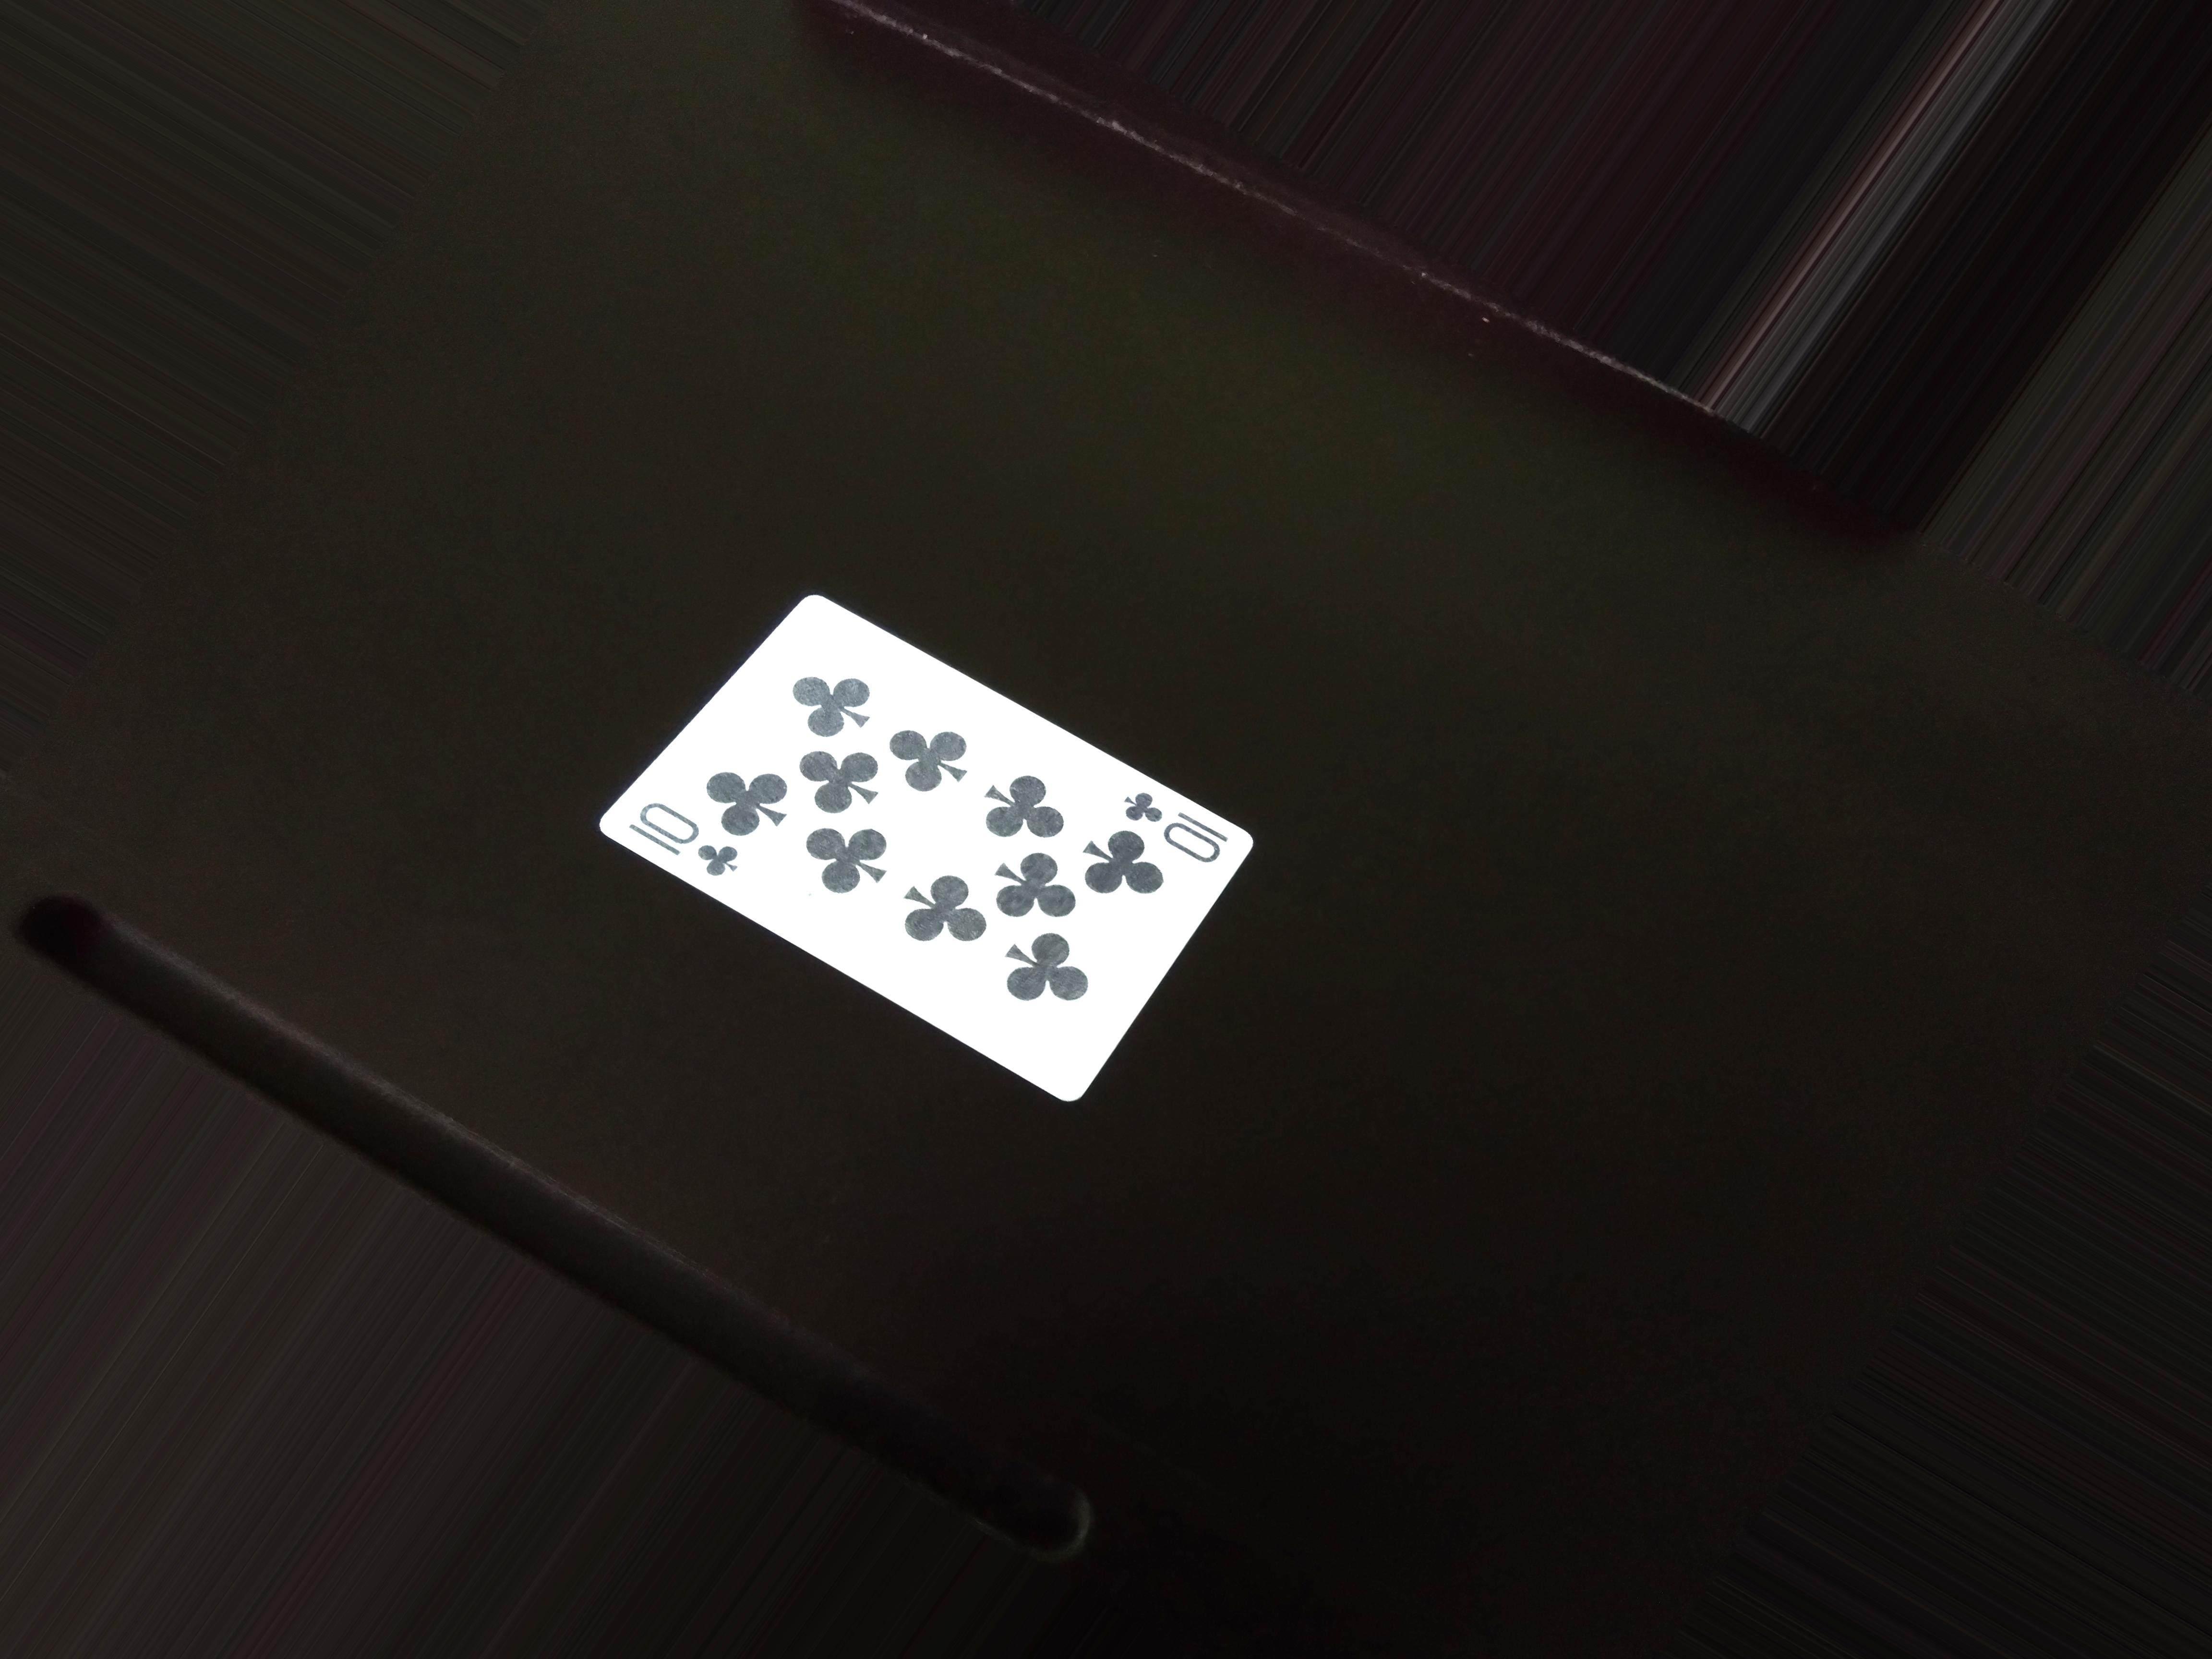10C: (1118, 777, 1252, 875)
